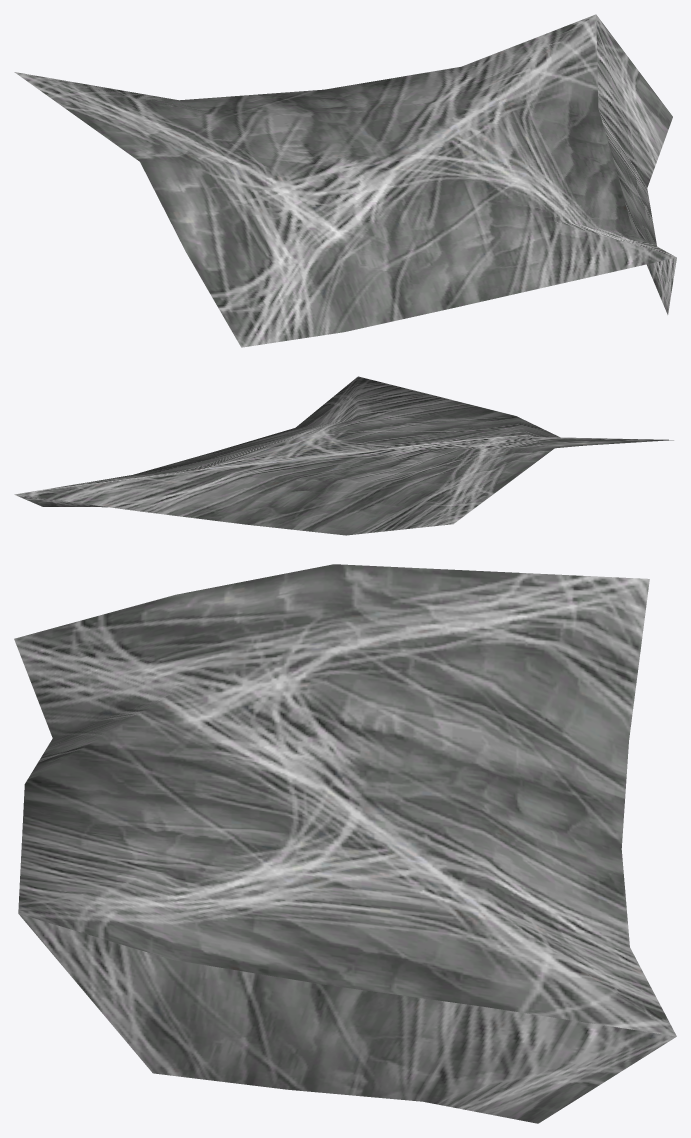
File: SWORDLIGHT20_PS-AREA01_39.fbx
3 views of the same model, one above another, from view 1: azimuth 30°, elevation 25°; view 2: azimuth 150°, elevation 25°; view 3: azimuth 270°, elevation 25° (orthographic). The views are drawn at different scales.
Visible parts, largest first — view 1: SWORDLIGHT20_PS-AREA01_39; view 2: SWORDLIGHT20_PS-AREA01_39; view 3: SWORDLIGHT20_PS-AREA01_39.
Boxes of the visible parts, x1,y1,x2,y2 form: SWORDLIGHT20_PS-AREA01_39: (14,14,676,347); SWORDLIGHT20_PS-AREA01_39: (14,376,673,535); SWORDLIGHT20_PS-AREA01_39: (14,564,676,1123).
Size of the model in its own units: 61459 by 18742 by 45529.
Materials: 1 (1 with a texture image).
